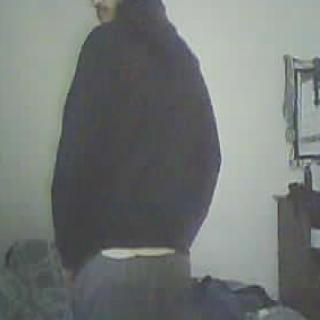Blue Sweatpants: (75, 250, 189, 320)
